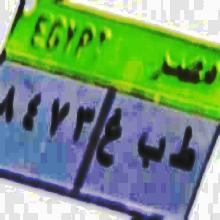3: (72, 88, 94, 143)
4: (22, 84, 41, 142)
7: (48, 92, 69, 136)
8: (0, 82, 14, 128)
Taa: (170, 113, 193, 185)
baa: (135, 124, 164, 176)
ghayn: (97, 103, 122, 178)
